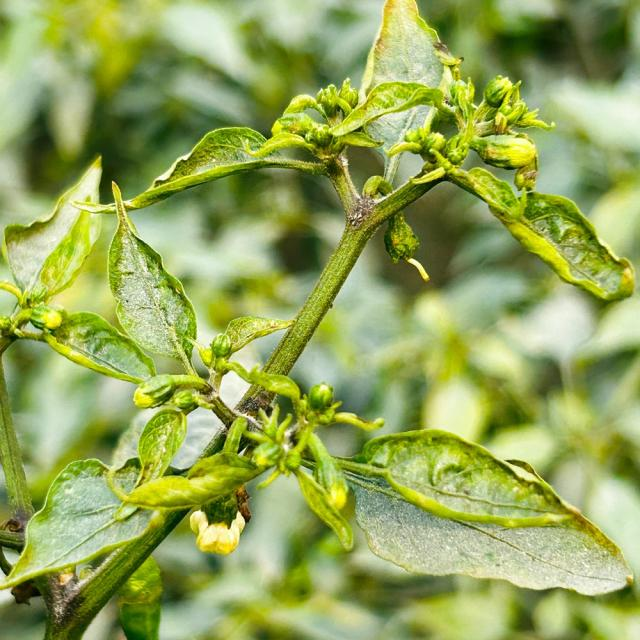Chilli_Leaf_Curl: (2, 1, 636, 636), (338, 427, 634, 596), (1, 456, 162, 592), (104, 180, 199, 371), (1, 153, 104, 312), (504, 189, 635, 303)
